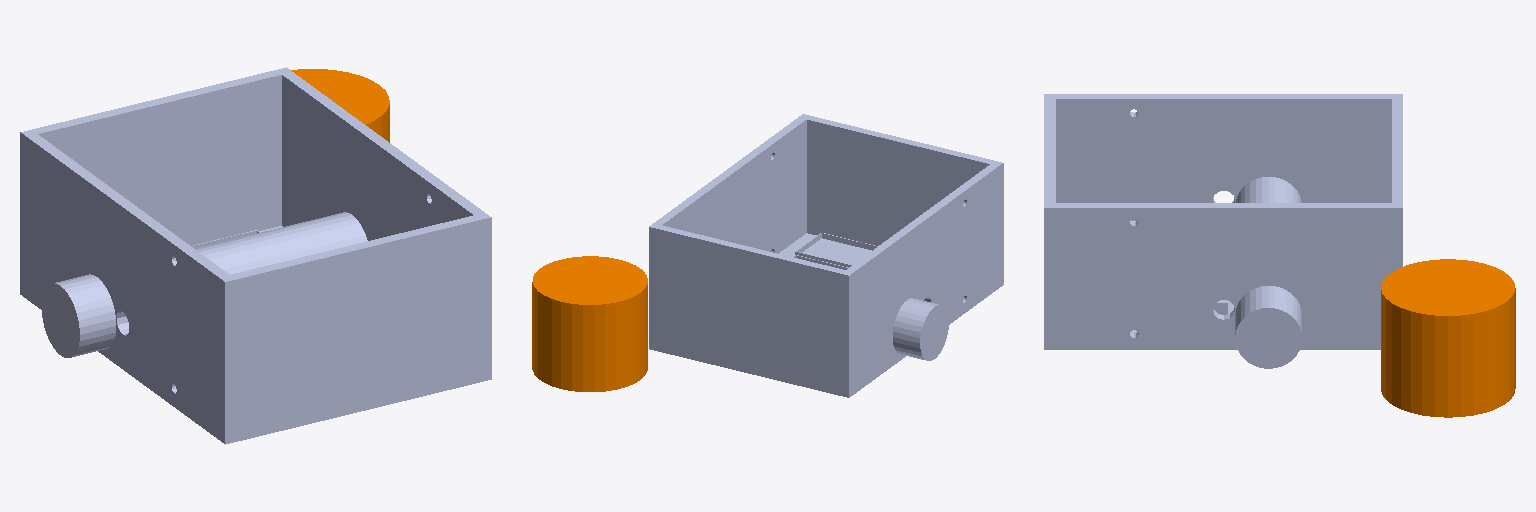
The robot description file, URDF, robot "robot_boat":
<robot name="robot_boat">
  
  <!-- CUERPO PRINCIPAL (usando el STL de la caja) -->
  <link name="base">
    <inertial>
      <origin xyz="0 0 0.025" rpy="0 0 0" />
      <mass value="0.4" />
      <inertia ixx="0.001" ixy="0" ixz="0" iyy="0.001" iyz="0" izz="0.001" />
    </inertial>
    <visual>
      <geometry>
        <mesh filename="package://robot_boat/meshes/caja.STL"/>
      </geometry>
      <material name="azul_claro">
        <color rgba="0.792156862745098 0.819607843137255 0.933333333333333 1"/>
      </material>
    </visual>
    <collision>
      <geometry>
        <box size="0.15 0.1 0.05"/>
      </geometry>
    </collision>
  </link>

  <!-- PUNTA DELANTERA (cono naranja) -->
  <link name="punta">
    <inertial>
      <origin xyz="0 0 0" rpy="0 0 0" />
      <mass value="0.05" />
      <inertia ixx="0.0001" ixy="0" ixz="0" iyy="0.0001" iyz="0" izz="0.0001" />
    </inertial>
    <visual>
      <geometry>
        <cylinder length="0.05" radius="0.03"/>
      </geometry>
      <material name="naranja">
        <color rgba="1 0.549019607843137 0 1"/>
      </material>
    </visual>
    <collision>
      <geometry>
        <cylinder length="0.05" radius="0.03"/>
      </geometry>
    </collision>
  </link>

  <joint name="punta_joint" type="fixed">
    <origin xyz="0.08 0 0" rpy="0 0 0" />
    <parent link="base"/>
    <child link="punta"/>
  </joint>

  <!-- MOTOR IZQUIERDO -->
  <link name="motor_left">
    <inertial>
      <origin xyz="0 0 0" rpy="0 0 0" />
      <mass value="0.05" />
      <inertia ixx="0.0001" ixy="0" ixz="0" iyy="0.0001" iyz="0" izz="0.0001" />
    </inertial>
    <visual>
      <geometry>
        <cylinder length="0.08" radius="0.015"/>
      </geometry>
      <material name="gris_claro">
        <color rgba="0.796078431372549 0.823529411764706 0.937254901960784 1"/>
      </material>
    </visual>
    <collision>
      <geometry>
        <cylinder length="0.08" radius="0.015"/>
      </geometry>
    </collision>
  </link>

  <joint name="motor_left_joint" type="continuous">
    <origin xyz="-0.04 -0.08 0" rpy="0 1.5708 0" />
    <parent link="base"/>
    <child link="motor_left"/>
    <axis xyz="1 0 0"/>
    <limit effort="10.0" velocity="10.0"/>
    <dynamics damping="0.1" friction="0.05"/>
  </joint>

  <!-- MOTOR DERECHO -->
  <link name="motor_right">
    <inertial>
      <origin xyz="0 0 0" rpy="0 0 0" />
      <mass value="0.05" />
      <inertia ixx="0.0001" ixy="0" ixz="0" iyy="0.0001" iyz="0" izz="0.0001" />
    </inertial>
    <visual>
      <geometry>
        <cylinder length="0.08" radius="0.015"/>
      </geometry>
      <material name="gris_claro">
        <color rgba="0.796078431372549 0.823529411764706 0.937254901960784 1"/>
      </material>
    </visual>
    <collision>
      <geometry>
        <cylinder length="0.08" radius="0.015"/>
      </geometry>
    </collision>
  </link>

  <joint name="motor_right_joint" type="continuous">
    <origin xyz="0.04 -0.08 0" rpy="0 1.5708 0" />
    <parent link="base"/>
    <child link="motor_right"/>
    <axis xyz="1 0 0"/>
    <limit effort="10.0" velocity="10.0"/>
    <dynamics damping="0.1" friction="0.05"/>
  </joint>

</robot>

--- Facts derived from the render (not from the file) ---
The picture shows the robot from 3 angles, left to right: view 1: azimuth 30°, elevation 25°; view 2: azimuth 150°, elevation 25°; view 3: azimuth 270°, elevation 25°; orthographic projection.
Model robot_boat with 4 links and 3 joints (2 continuous, 1 fixed), rooted at base, posed every joint at zero.
Links seen in each view (by area): view 1: base, motor_left, motor_right, punta; view 2: base, punta, motor_left; view 3: base, punta, motor_right, motor_left.
Link boxes in pixels (left/top/right/bottom): base: left=20, top=67, right=491, bottom=444; motor_left: left=42, top=240, right=253, bottom=357; motor_right: left=233, top=212, right=367, bottom=268; punta: left=291, top=69, right=389, bottom=142; base: left=649, top=114, right=1003, bottom=397; punta: left=532, top=256, right=647, bottom=391; motor_left: left=893, top=298, right=948, bottom=360; base: left=1044, top=94, right=1402, bottom=349; punta: left=1381, top=259, right=1515, bottom=417; motor_right: left=1235, top=286, right=1301, bottom=368; motor_left: left=1236, top=177, right=1301, bottom=202.
Bounding box of the posed robot: 0.19 × 0.21 × 0.0782 m (x, y, z).
Meshes: 1 distinct files referenced, 1 mesh visuals loaded (1 binary STL).
